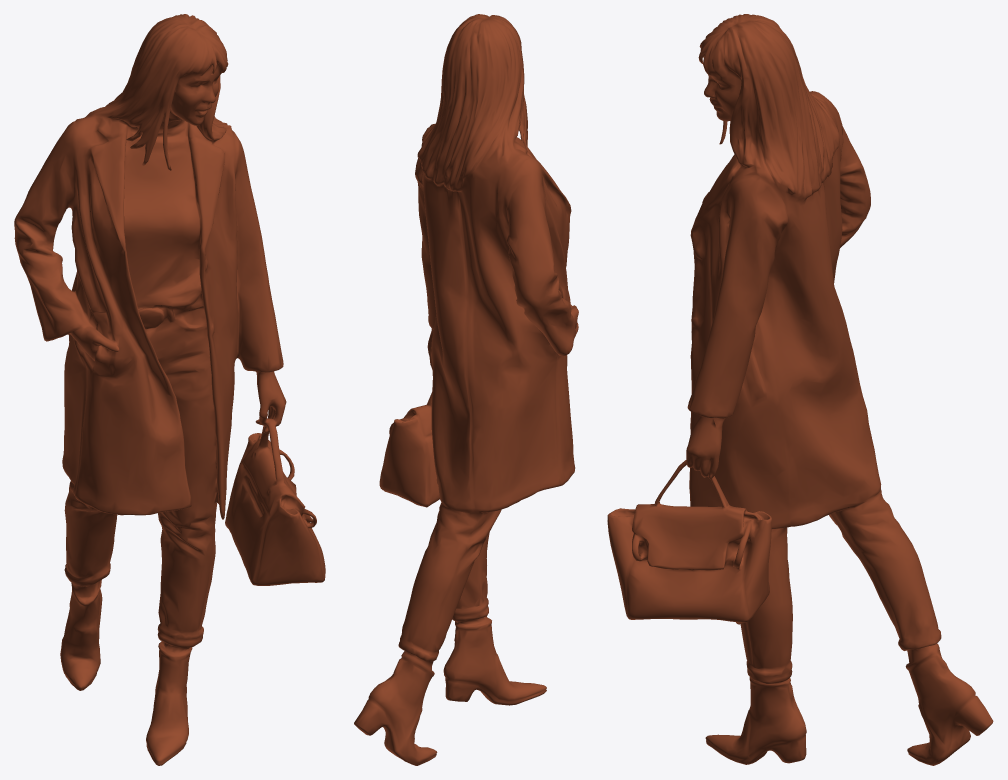
Rendered from Marina.fbx.
3 renders of one model, left to right at view 1: azimuth 30°, elevation 25°; view 2: azimuth 150°, elevation 25°; view 3: azimuth 270°, elevation 25°, orthographic. The views are drawn at different scales.
Parts seen in each view (by area): view 1: Marina_1276_COR; view 2: Marina_1276_COR; view 3: Marina_1276_COR.
Boxes of the visible parts, x1,y1,x2,y2 form: Marina_1276_COR: (14, 14, 325, 765); Marina_1276_COR: (354, 14, 578, 765); Marina_1276_COR: (607, 14, 993, 765).
Bounding box in the file's own units: 597 × 1753 × 820.
